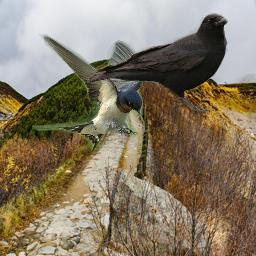Crow: (87, 13, 228, 115)
Swallow: (32, 33, 143, 151)
